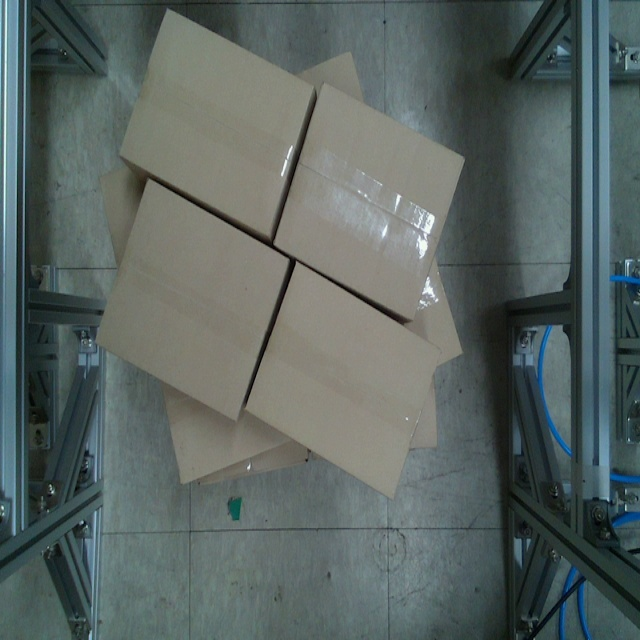box: (92, 176, 294, 428), (242, 257, 445, 507), (271, 76, 468, 325), (118, 9, 318, 243)
